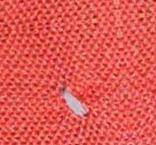hole: (61, 87, 91, 119)
